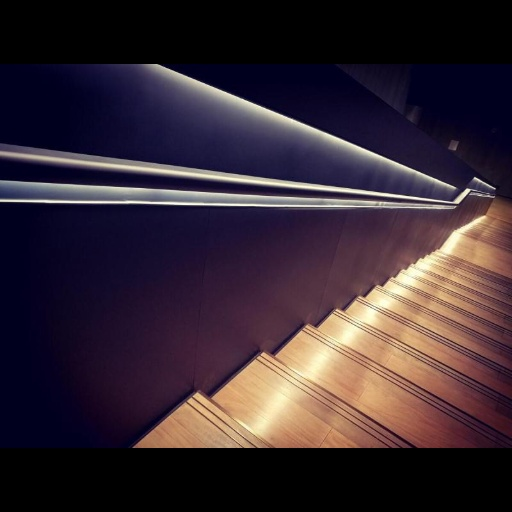Stairs: (136, 200, 512, 447)
